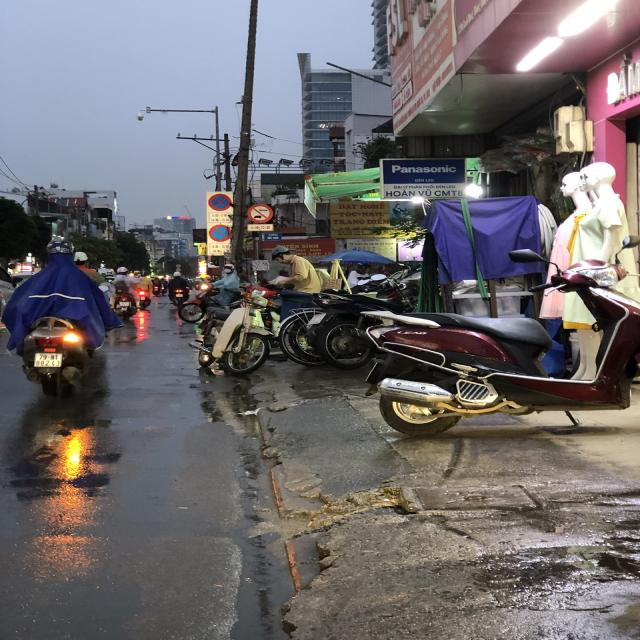Bien bao cam dung xe va do xe: (206, 192, 234, 212)
Bien bao cam xe oto khach va xe oto tai: (247, 202, 273, 224)
